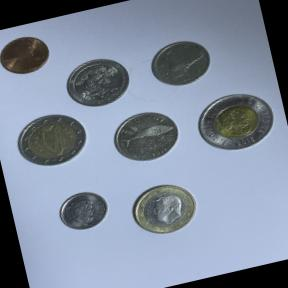1 Euro-B: (122, 171, 204, 243)
2 Euro-B: (6, 104, 94, 176)
Canada-10cent-B: (51, 181, 117, 240)
Canada-2Dollar-B: (187, 81, 284, 164)
Croatia-2Kune-B: (105, 102, 187, 171)
US-1cent-B: (0, 28, 55, 81)
US-25cent-B: (57, 50, 135, 114)
